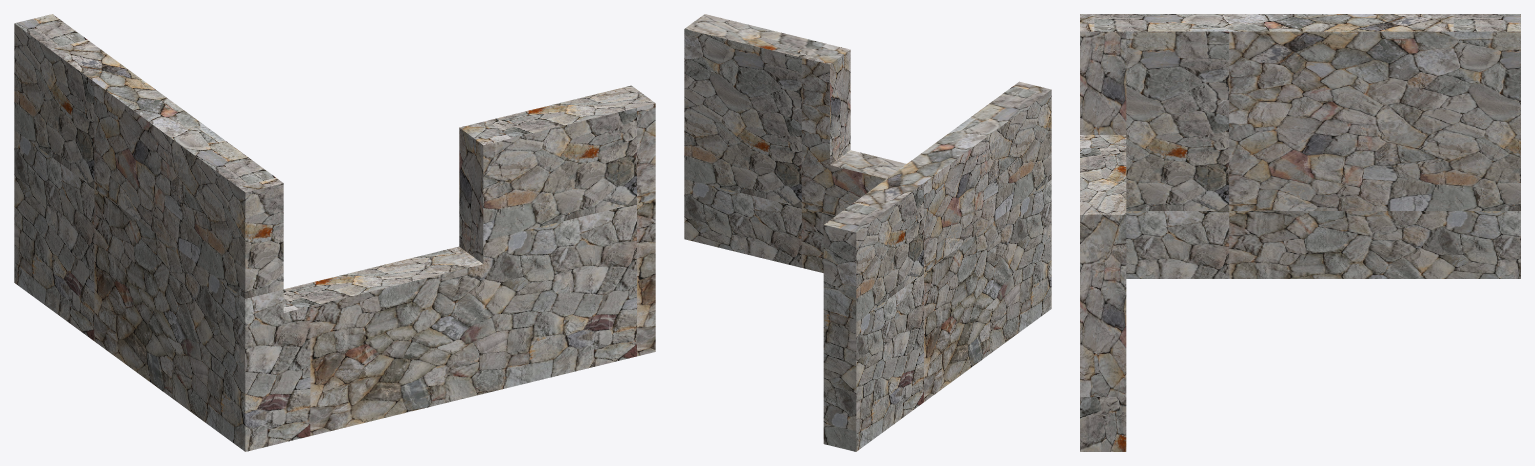
Rendered from Paredes.glb.
3 views of the same model, side by side, from view 1: azimuth 30°, elevation 25°; view 2: azimuth 150°, elevation 25°; view 3: azimuth 270°, elevation 25° (orthographic). The views are drawn at different scales.
Visible parts, largest first — view 1: Cube; view 2: Cube; view 3: Cube.
Part boxes in pixels (box(x1,y1,x2,y2)): Cube: box(14, 14, 655, 451); Cube: box(684, 14, 1051, 451); Cube: box(1080, 14, 1520, 451).
Size of the model in its own units: 7.37 by 4.45 by 7.2.
Materials: 1 (1 with a texture image).
